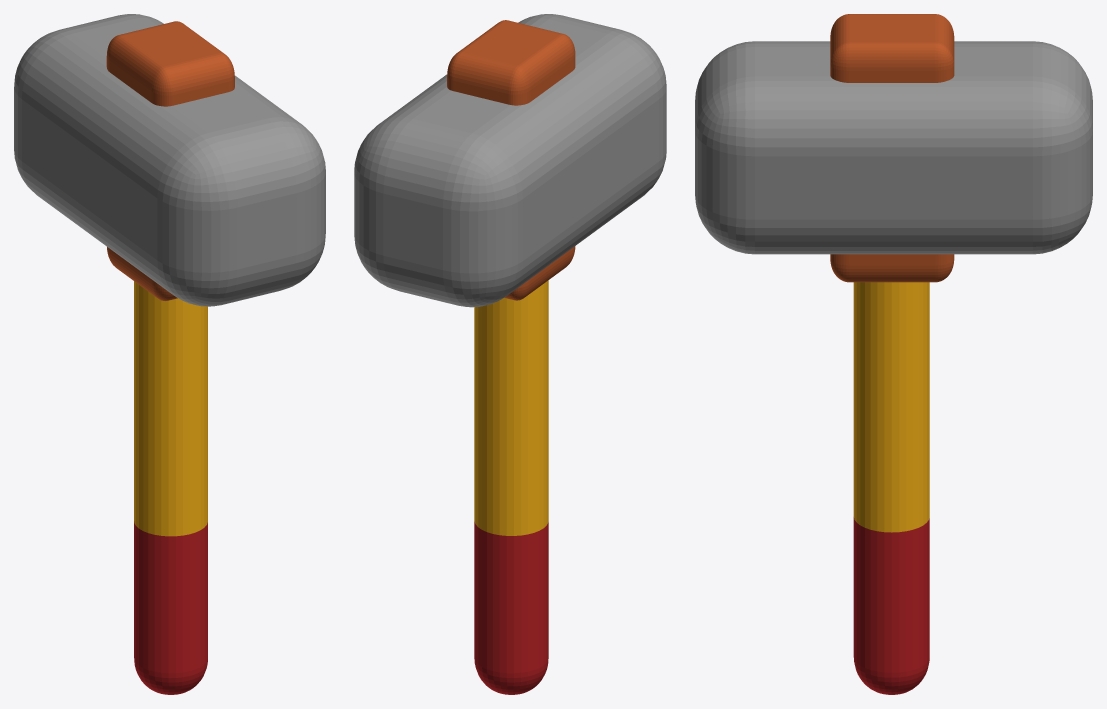
Rendered from Hammer_2.fbx.
3 renders of one model, left to right at view 1: azimuth 30°, elevation 25°; view 2: azimuth 150°, elevation 25°; view 3: azimuth 270°, elevation 25°, orthographic. The views are drawn at different scales.
Parts seen in each view (by area): view 1: Cube.002, Cylinder, Cube.001, Cube; view 2: Cube.002, Cylinder, Cube.001, Cube; view 3: Cube.002, Cylinder, Cube.001, Cube.
Part boxes in pixels (x1,y1,x2,y2): Cube.002: (14, 14, 325, 306); Cylinder: (134, 281, 207, 694); Cube.001: (106, 21, 234, 106); Cube: (107, 247, 177, 300); Cube.002: (354, 14, 666, 307); Cylinder: (474, 280, 548, 694); Cube.001: (447, 20, 575, 105); Cube: (504, 246, 575, 300); Cube.002: (695, 41, 1092, 254); Cylinder: (853, 282, 929, 694); Cube.001: (830, 14, 954, 82); Cube: (830, 254, 954, 282).
Bounding box in the file's own units: 123 × 470 × 257.
